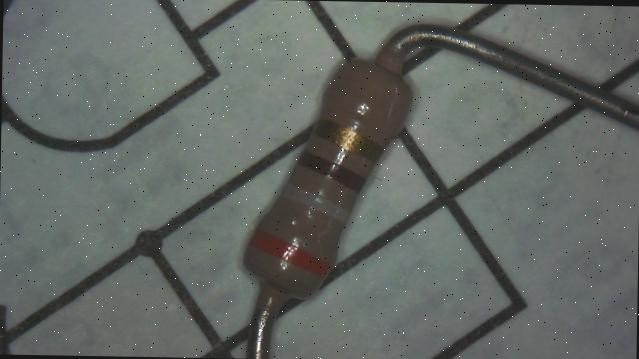brown: (301, 154, 364, 189)
gold: (311, 118, 386, 160)
orange: (250, 230, 330, 276)
resistor: (221, 30, 449, 324)
white: (283, 184, 353, 221)
